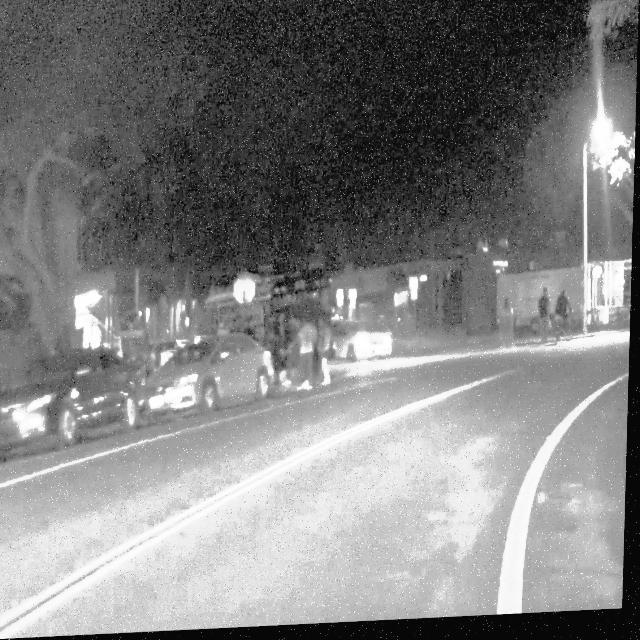Truck: (497, 272, 586, 344)
